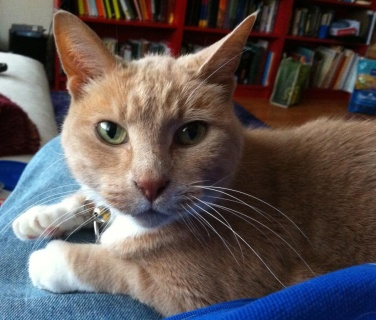Cat: (0, 3, 375, 317)
